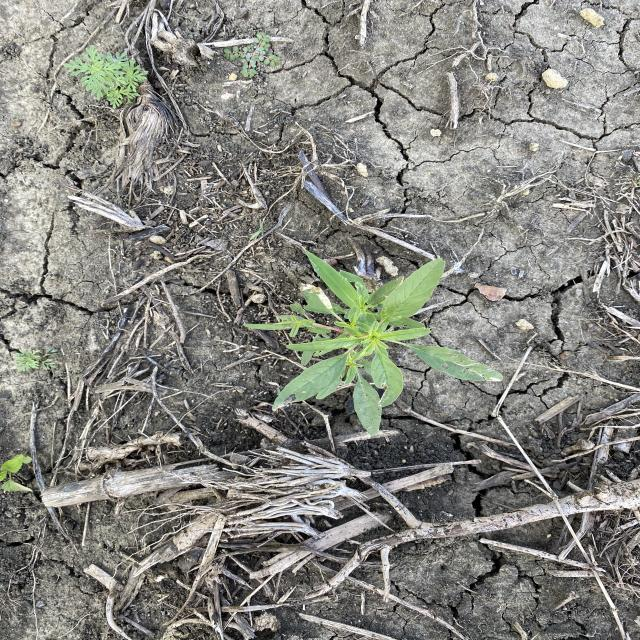Ragweed: (57, 44, 154, 107), (8, 346, 59, 375)
SpottedSpurge: (220, 29, 286, 81)
Waterhemp: (238, 255, 509, 438)
